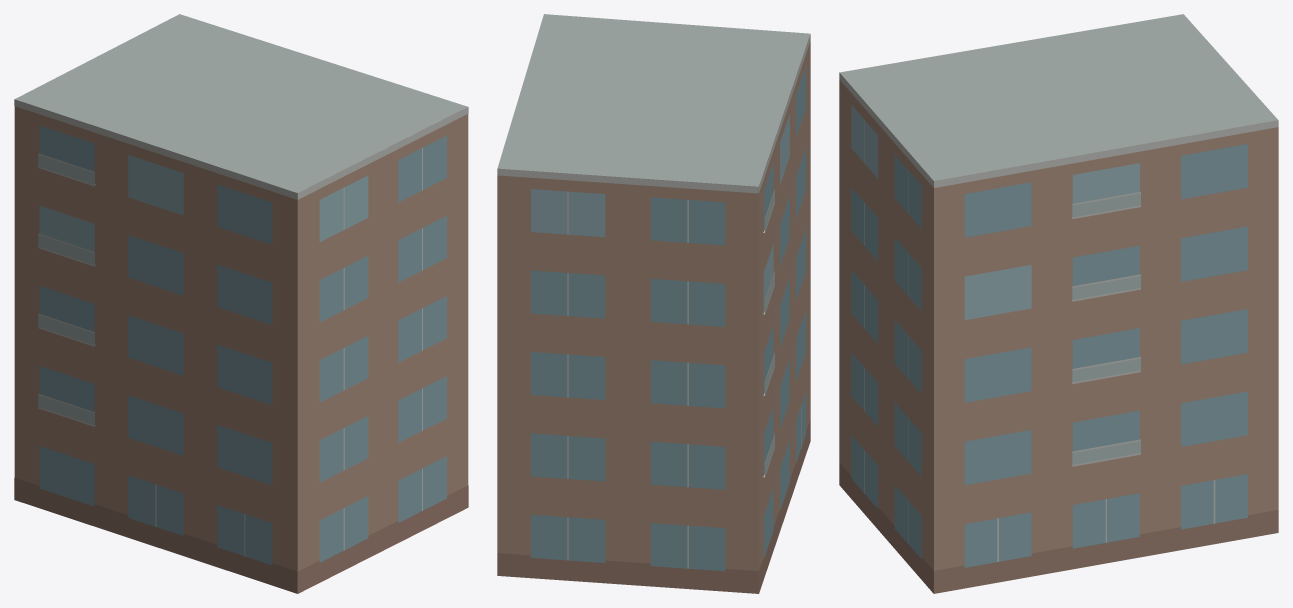
File: survey-upis-32883426.glb
3 views of the same model, side by side, from view 1: azimuth 30°, elevation 25°; view 2: azimuth 150°, elevation 25°; view 3: azimuth 270°, elevation 25° (orthographic). The views are drawn at different scales.
Visible parts, largest first — view 1: survey-upis-32883426.tmp; view 2: survey-upis-32883426.tmp; view 3: survey-upis-32883426.tmp.
Boxes of the visible parts, x1=… form: survey-upis-32883426.tmp: x1=14, y1=14, x2=468, y2=593; survey-upis-32883426.tmp: x1=497, y1=14, x2=810, y2=593; survey-upis-32883426.tmp: x1=839, y1=14, x2=1278, y2=593.
Bounding box in the file's own units: 12.67 × 14.57 × 14.06.
